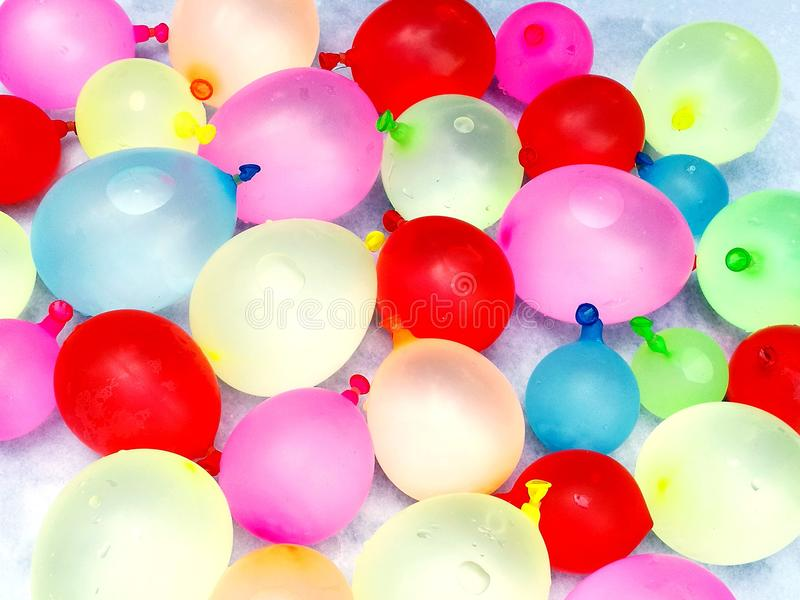Balloon: (33, 148, 236, 312), (190, 220, 369, 391), (502, 164, 697, 320), (205, 66, 381, 221), (52, 311, 223, 468), (635, 405, 800, 565), (366, 334, 526, 497), (215, 387, 374, 546), (635, 24, 778, 163), (378, 91, 523, 221), (380, 216, 515, 354), (509, 446, 653, 562), (349, 1, 494, 108), (696, 190, 800, 329), (522, 339, 639, 456), (514, 74, 647, 168), (1, 1, 128, 99), (77, 62, 208, 152), (491, 3, 592, 103), (631, 328, 732, 411), (1, 315, 60, 444), (1, 97, 65, 201)
